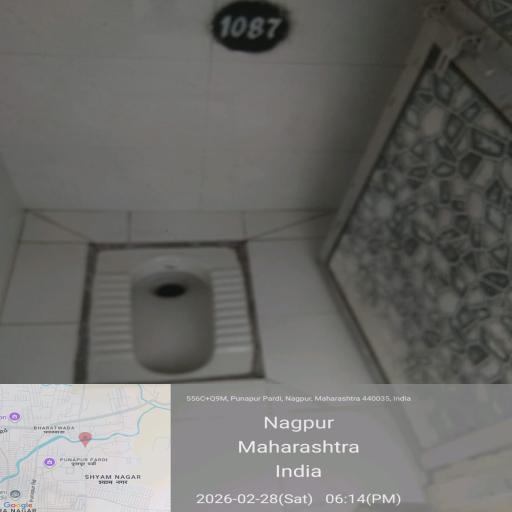clean_floor: (14, 10, 354, 210), (3, 217, 389, 388), (364, 86, 512, 342)
clean_indian: (84, 243, 259, 373)
